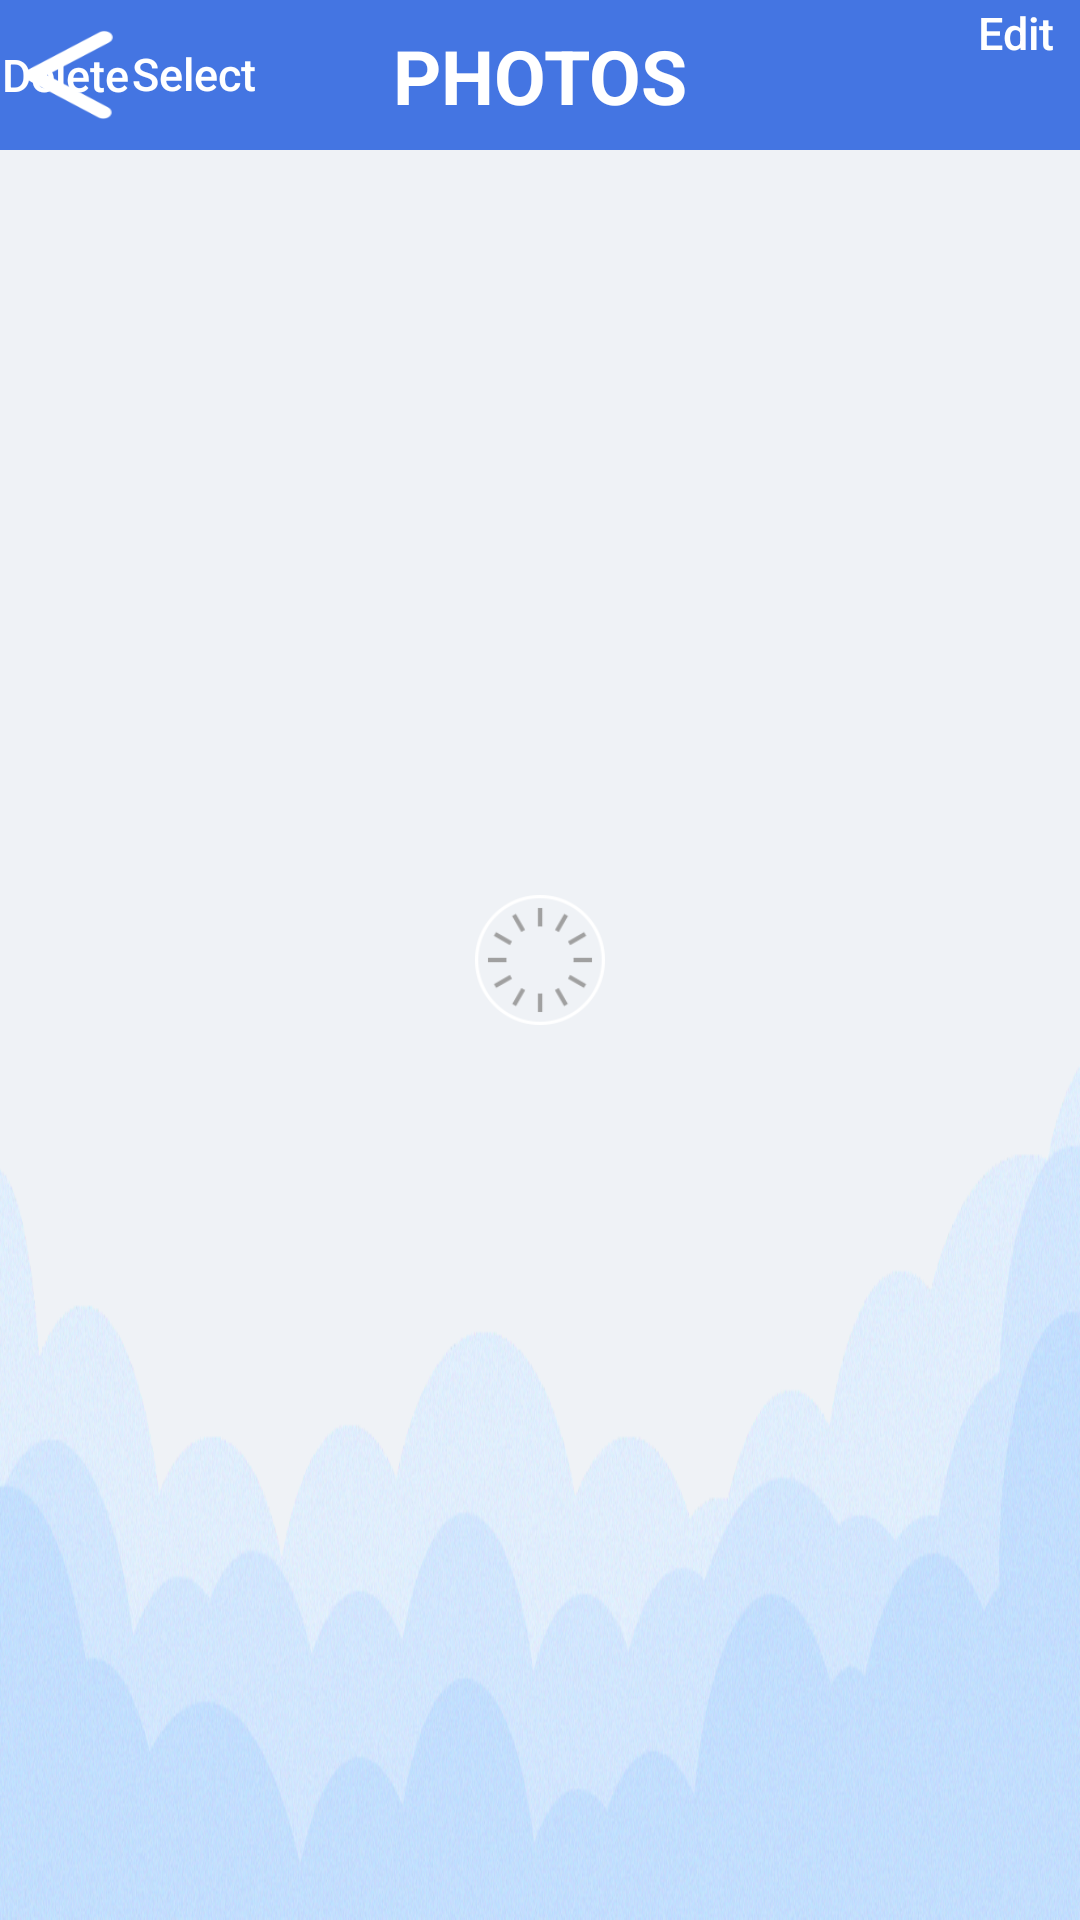

Icons on this 1080 x 1920 Android screen, each with its box as (left=x1, top=y1, right=x2, bottom=y2):
back: (left=24, top=31, right=114, bottom=119)
progress bar anim: (left=488, top=908, right=592, bottom=1012)
